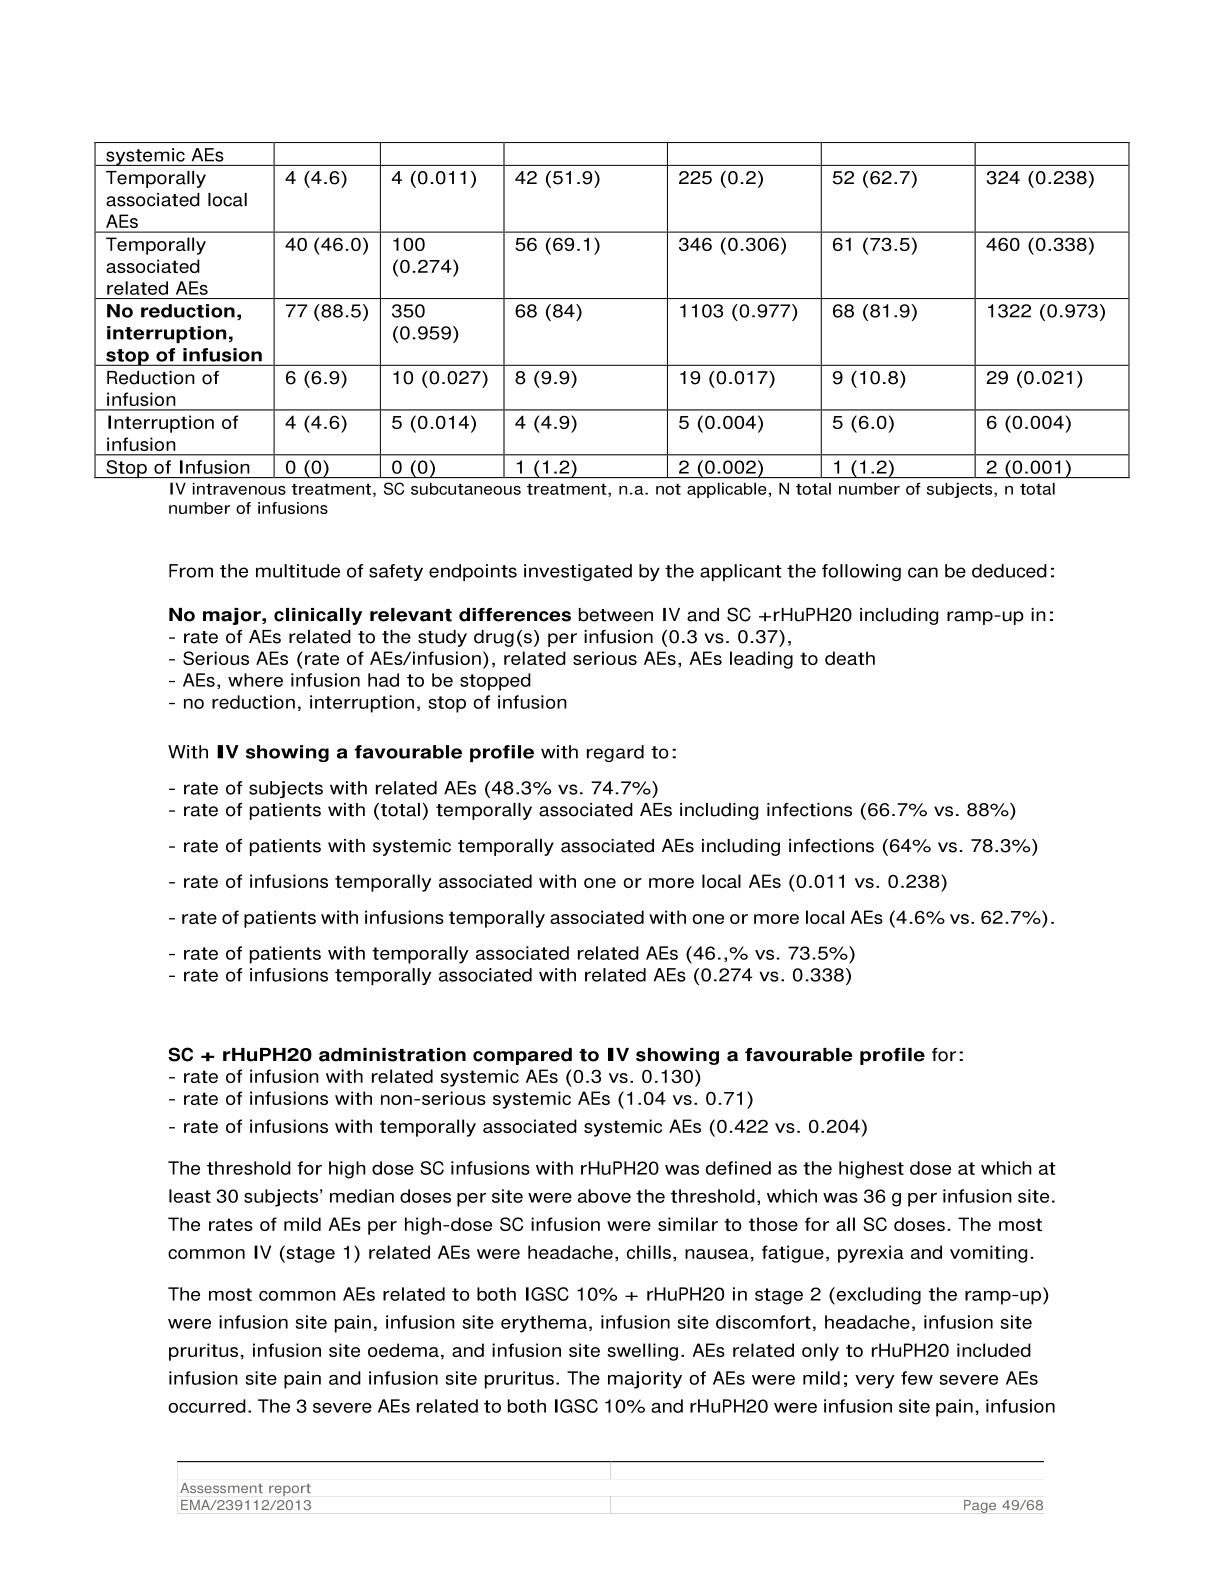full_lined: (93, 140, 1131, 480)
